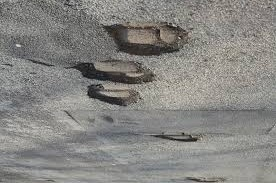pothole: (100, 20, 187, 58), (63, 62, 157, 83), (82, 84, 151, 107), (151, 132, 199, 141), (184, 172, 228, 181)
